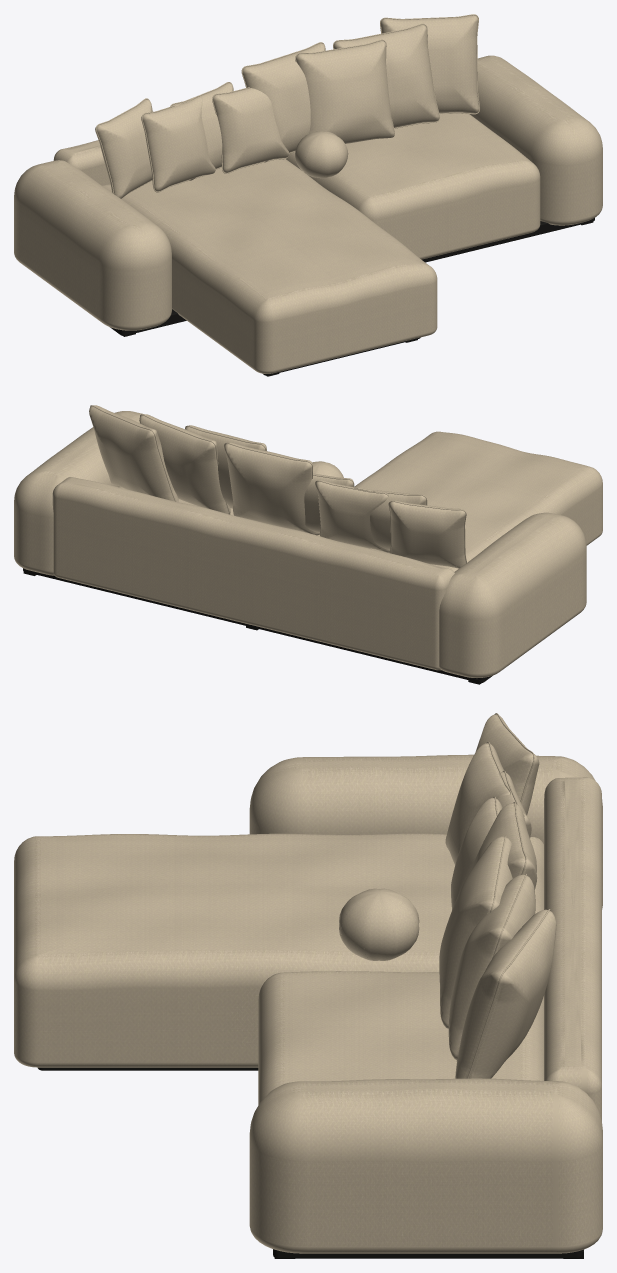
File: chaise.glb
3 renders of one model, top to bottom at view 1: azimuth 30°, elevation 25°; view 2: azimuth 150°, elevation 25°; view 3: azimuth 270°, elevation 25°, orthographic. The views are drawn at different scales.
Visible parts, largest first — view 1: fabric, pillows (×2), trim; view 2: fabric, pillows (×2), trim; view 3: fabric, pillows (×2), trim.
Part boxes in pixels (left/top/right/bottom): fabric: left=14, top=55, right=602, bottom=373; pillows (×2): left=95, top=14, right=480, bottom=198; trim: left=110, top=218, right=594, bottom=375; fabric: left=14, top=411, right=602, bottom=677; pillows (×2): left=89, top=405, right=466, bottom=568; trim: left=23, top=568, right=492, bottom=682; fabric: left=14, top=754, right=602, bottom=1253; pillows (×2): left=339, top=713, right=556, bottom=1078; trim: left=38, top=1067, right=582, bottom=1258.
Bounding box in the file's own units: 3 × 0.9726 × 2.
3 materials, 3 textured.
